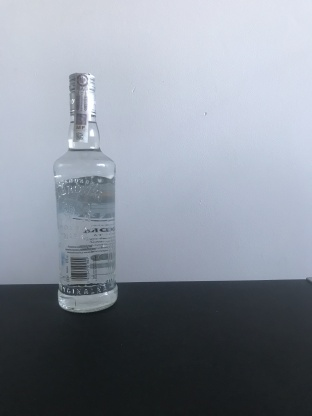nakretka: (66, 69, 99, 119)
